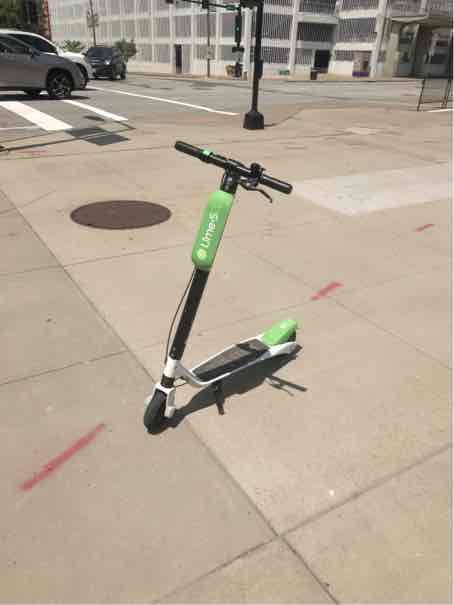scooter: (133, 130, 324, 448)
